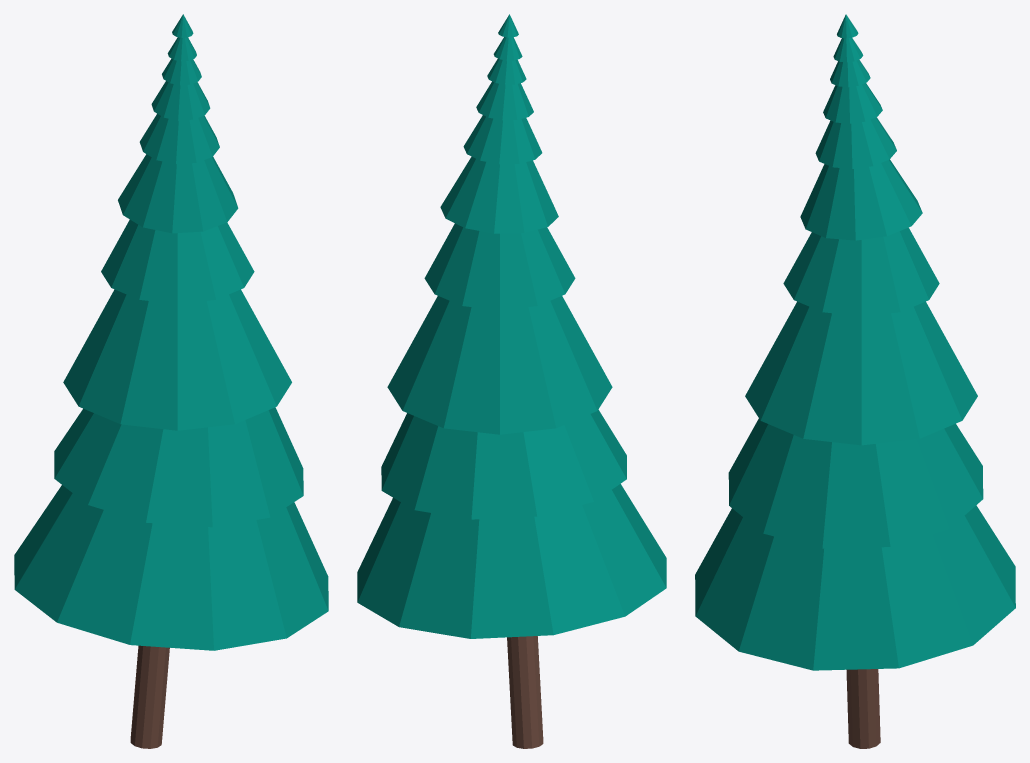
3 renders of one model, left to right at view 1: azimuth 30°, elevation 25°; view 2: azimuth 150°, elevation 25°; view 3: azimuth 270°, elevation 25°, orthographic. The views are drawn at different scales.
Visible parts, largest first — view 1: mesh_121006398, mesh_761501246, mesh_2126144743, mesh_152098181, mesh_1659665738, mesh_49373391, mesh_2029040253, mesh_224115156, mesh_26436709, mesh_1031049987; view 2: mesh_121006398, mesh_761501246, mesh_2126144743, mesh_152098181, mesh_1659665738, mesh_49373391, mesh_2029040253, mesh_224115156, mesh_26436709; view 3: mesh_121006398, mesh_2126144743, mesh_761501246, mesh_152098181, mesh_1659665738, mesh_2029040253, mesh_49373391, mesh_224115156, mesh_26436709, mesh_1031049987.
Boxes of the visible parts, x1,y1,x2,y2 form: mesh_121006398: [14, 485, 328, 650]; mesh_761501246: [63, 289, 291, 430]; mesh_2126144743: [54, 407, 303, 527]; mesh_152098181: [101, 219, 254, 304]; mesh_1659665738: [118, 154, 238, 233]; mesh_49373391: [130, 645, 169, 748]; mesh_2029040253: [139, 114, 219, 163]; mesh_224115156: [151, 81, 210, 120]; mesh_26436709: [162, 58, 201, 85]; mesh_1031049987: [167, 37, 196, 61]; mesh_121006398: [357, 484, 666, 638]; mesh_761501246: [387, 296, 612, 434]; mesh_2126144743: [381, 409, 626, 519]; mesh_152098181: [424, 223, 575, 310]; mesh_1659665738: [440, 156, 558, 233]; mesh_49373391: [507, 636, 543, 748]; mesh_2029040253: [463, 115, 542, 164]; mesh_224115156: [476, 81, 533, 120]; mesh_26436709: [487, 58, 526, 84]; mesh_121006398: [695, 505, 1015, 670]; mesh_2126144743: [728, 418, 983, 548]; mesh_761501246: [745, 301, 977, 445]; mesh_152098181: [783, 227, 939, 316]; mesh_1659665738: [800, 159, 922, 240]; mesh_2029040253: [815, 117, 896, 168]; mesh_49373391: [846, 669, 880, 748]; mesh_224115156: [823, 83, 882, 123]; mesh_26436709: [830, 59, 870, 87]; mesh_1031049987: [833, 37, 863, 62].
Bounding box in the file's own units: 117 × 299 × 117.
